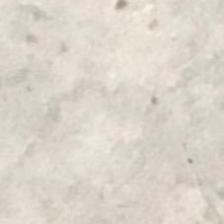Non_Crack: (28, 35, 204, 188)
